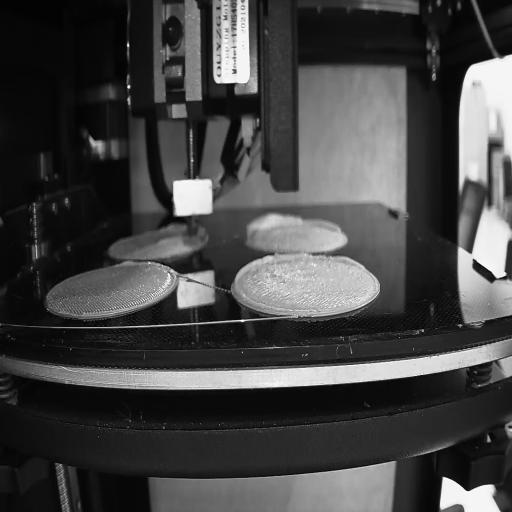over_extrusion: (232, 254, 306, 314), (243, 208, 304, 236), (327, 252, 367, 273), (306, 216, 340, 234), (152, 232, 184, 250), (116, 260, 138, 270), (161, 222, 185, 228)
